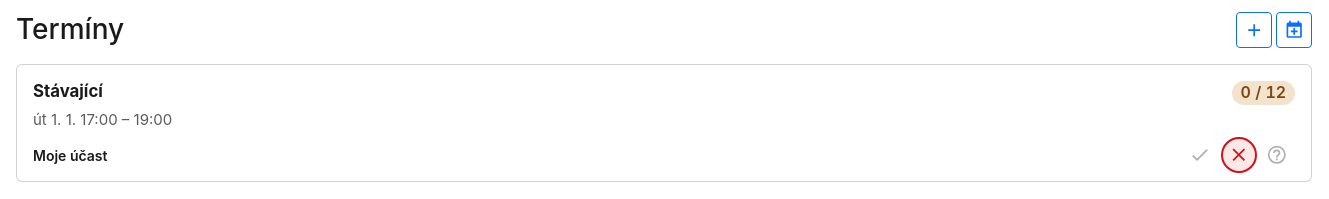
Test case: RSVP on a card posts attendance and updates the pill without opening detail
Click the button named "Jdu" at {"x": 1200, "y": 155}, box x1=1182 y1=137 x2=1218 y2=173
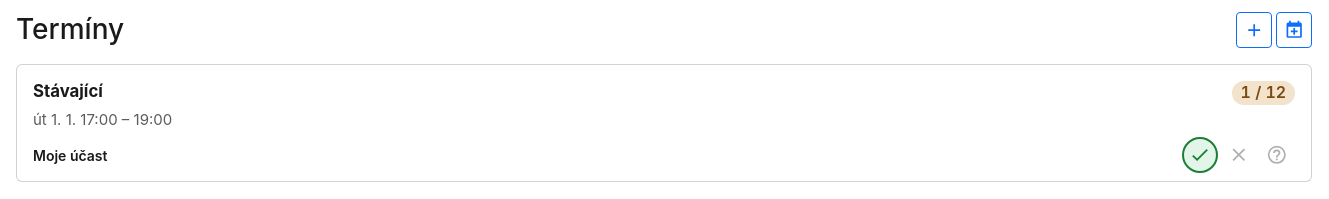
Now the text "1 / 12" is shown, box x1=1232 y1=81 x2=1295 y2=105
